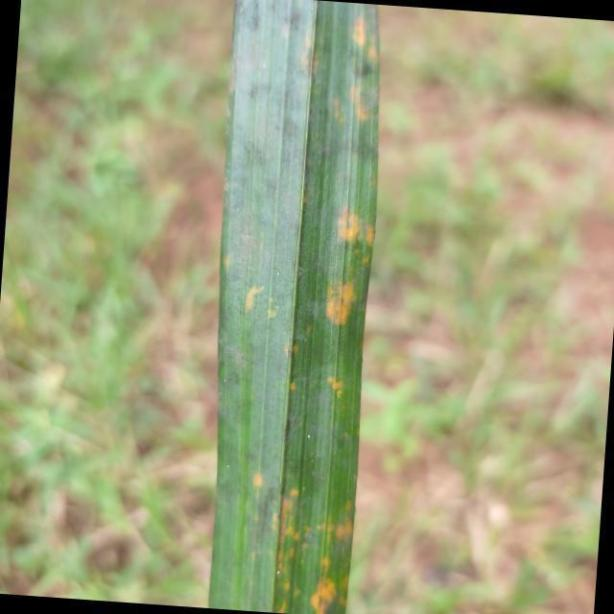Kalium: (198, 3, 380, 614)
